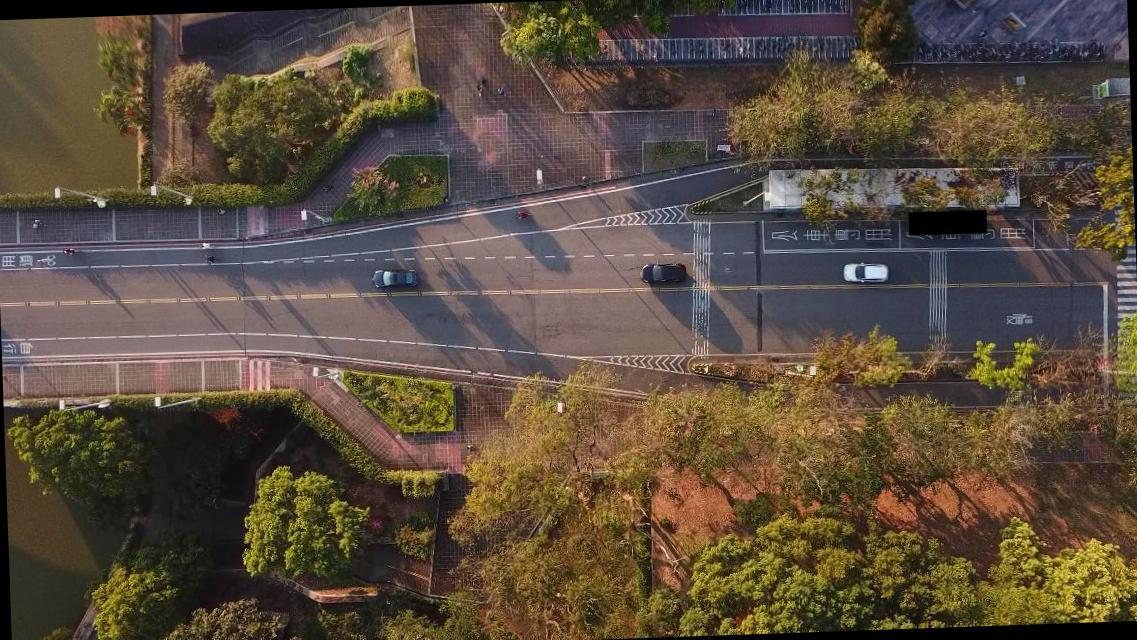vehicle: (842, 260, 889, 286), (639, 260, 687, 284), (371, 266, 418, 289)
